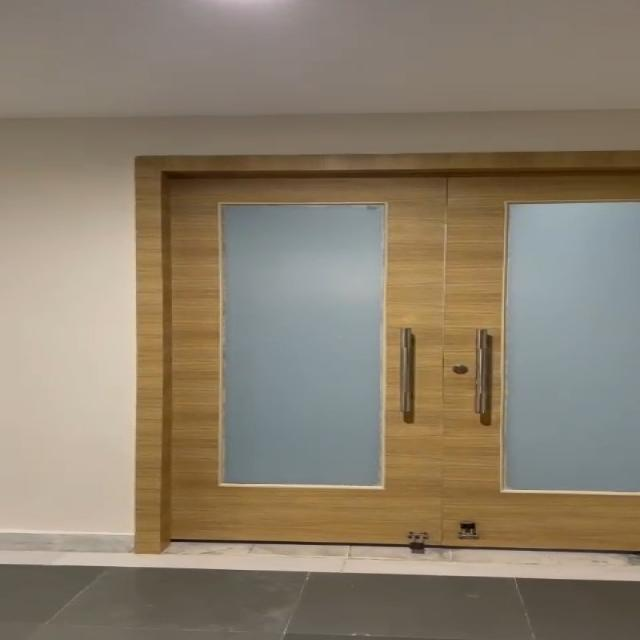door: (115, 150, 640, 548)
floor: (0, 546, 640, 640)
wall: (0, 115, 121, 540)
